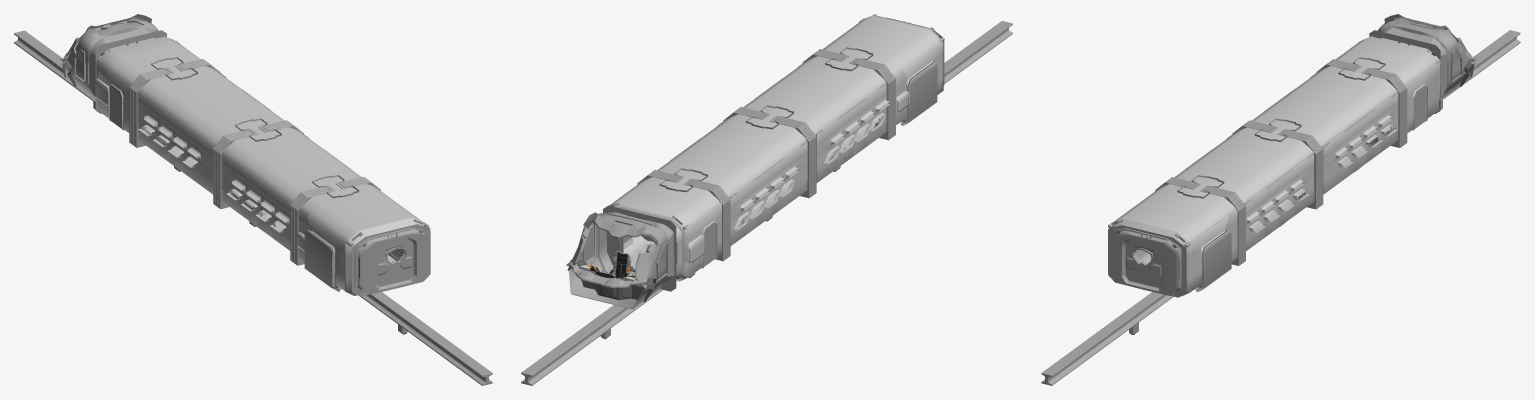
Rendered from Fulltrain_test_fbx.fbx.
3 views of the same model, side by side, from view 1: azimuth 30°, elevation 25°; view 2: azimuth 150°, elevation 25°; view 3: azimuth 330°, elevation 25° (orthographic). The views are drawn at different scales.
Parts seen in each view (by area): view 1: Parroie_lp, railway, cokpit_shell_lp, backdoorcontour, backdoor_lp, Arch_lp3, Arch_lp1, Arch_lp2, lateraldoor_big_lp, door_small_lp; view 2: Parroie_lp, cokpit_shell_lp, railway, Arch_lp3, Arch_lp2, Arch_lp1, lateraldoor_big_lp, Tableau_bord, relief_cokpit_lp1, door_small_lp; view 3: Parroie_lp, railway, cokpit_shell_lp, backdoorcontour, backdoor_lp, Arch_lp3, Arch_lp1, Arch_lp2, lateraldoor_big_lp, tuyaux_haut_lp, door_small_lp.
Boxes of the visible parts, x1=… form: Parroie_lp: x1=95, y1=36, x2=425, y2=295; railway: x1=14, y1=30, x2=492, y2=385; cokpit_shell_lp: x1=61, y1=14, x2=166, y2=113; backdoorcontour: x1=352, y1=224, x2=430, y2=296; backdoor_lp: x1=376, y1=234, x2=414, y2=288; Arch_lp3: x1=129, y1=57, x2=219, y2=147; Arch_lp1: x1=213, y1=118, x2=303, y2=209; Arch_lp2: x1=290, y1=175, x2=380, y2=265; lateraldoor_big_lp: x1=304, y1=230, x2=402, y2=291; door_small_lp: x1=109, y1=85, x2=121, y2=128; Parroie_lp: x1=609, y1=15, x2=943, y2=281; cokpit_shell_lp: x1=567, y1=205, x2=676, y2=309; railway: x1=521, y1=21, x2=1012, y2=385; Arch_lp3: x1=637, y1=168, x2=730, y2=261; Arch_lp2: x1=803, y1=47, x2=895, y2=140; Arch_lp1: x1=724, y1=105, x2=816, y2=198; lateraldoor_big_lp: x1=901, y1=61, x2=937, y2=125; Tableau_bord: x1=566, y1=259, x2=655, y2=301; relief_cokpit_lp1: x1=582, y1=216, x2=667, y2=288; door_small_lp: x1=623, y1=222, x2=716, y2=266; Parroie_lp: x1=1109, y1=36, x2=1440, y2=296; railway: x1=1041, y1=30, x2=1520, y2=385; cokpit_shell_lp: x1=1369, y1=14, x2=1475, y2=113; backdoorcontour: x1=1108, y1=225, x2=1186, y2=297; backdoor_lp: x1=1124, y1=235, x2=1162, y2=289; Arch_lp3: x1=1317, y1=57, x2=1407, y2=147; Arch_lp1: x1=1233, y1=118, x2=1323, y2=209; Arch_lp2: x1=1155, y1=175, x2=1245, y2=265; lateraldoor_big_lp: x1=1136, y1=230, x2=1231, y2=292; tuyaux_haut_lp: x1=1108, y1=36, x2=1439, y2=247; door_small_lp: x1=1414, y1=85, x2=1426, y2=128.
Bounding box in the file's own units: 456 × 495 × 4100.
